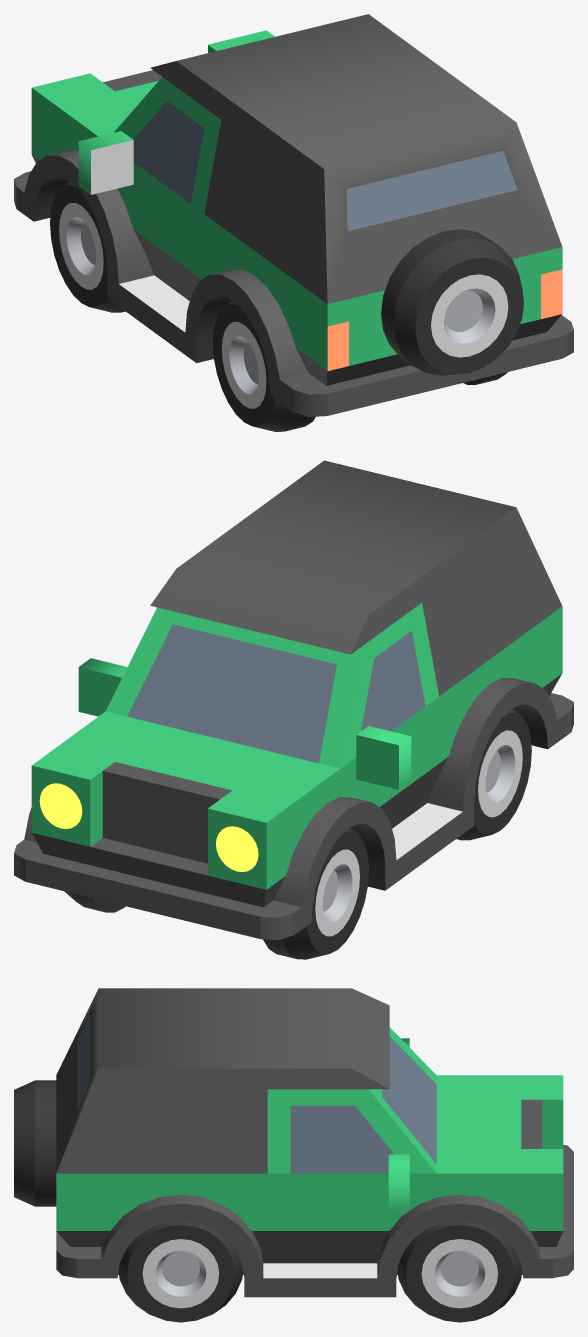
The model's file is suv.glb.
3 renders of one model, top to bottom at view 1: azimuth 30°, elevation 25°; view 2: azimuth 150°, elevation 25°; view 3: azimuth 270°, elevation 25°, orthographic. The views are drawn at different scales.
Visible parts, largest first — view 1: body, wheel_back, wheel_backLeft, wheel_frontLeft; view 2: body, wheel_frontLeft, wheel_backLeft; view 3: body, wheel_backRight, wheel_frontRight, wheel_back.
Part boxes in pixels (<box>): body: <box>14,14,573,416</box>; wheel_back: <box>381,229,523,375</box>; wheel_backLeft: <box>212,300,315,431</box>; wheel_frontLeft: <box>50,181,125,312</box>; body: <box>14,460,573,939</box>; wheel_frontLeft: <box>263,828,368,959</box>; wheel_backLeft: <box>456,708,531,840</box>; body: <box>56,988,573,1297</box>; wheel_backRight: <box>118,1220,243,1322</box>; wheel_frontRight: <box>397,1220,522,1322</box>; wheel_back: <box>14,1080,56,1206</box>.
Size of the model in its own units: 1.5 by 1.3 by 2.65.
